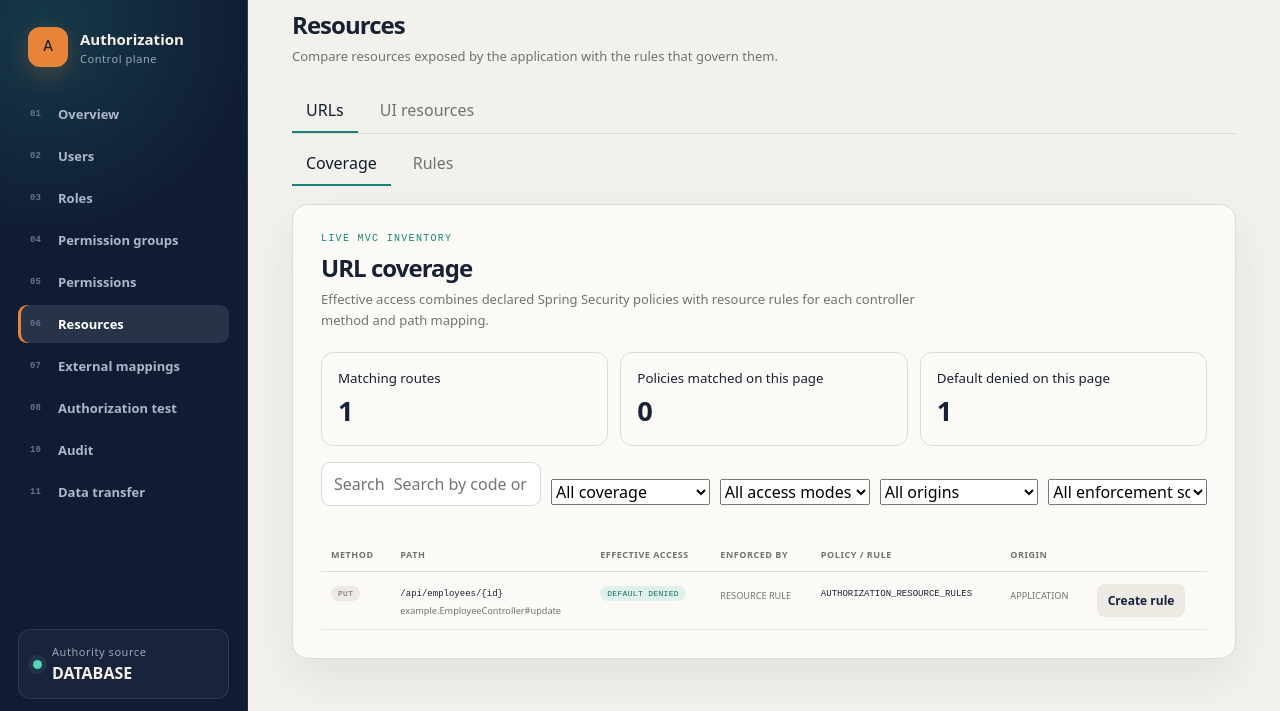
Test: Authorization admin UI › shows URL coverage and prefills a rule for an uncovered route
(page scrolled)
Expected: the text "Default denied" is shown, [600,586,686,601]
Click the button "Create rule" at point(1141, 601), box [1097,584,1185,617]
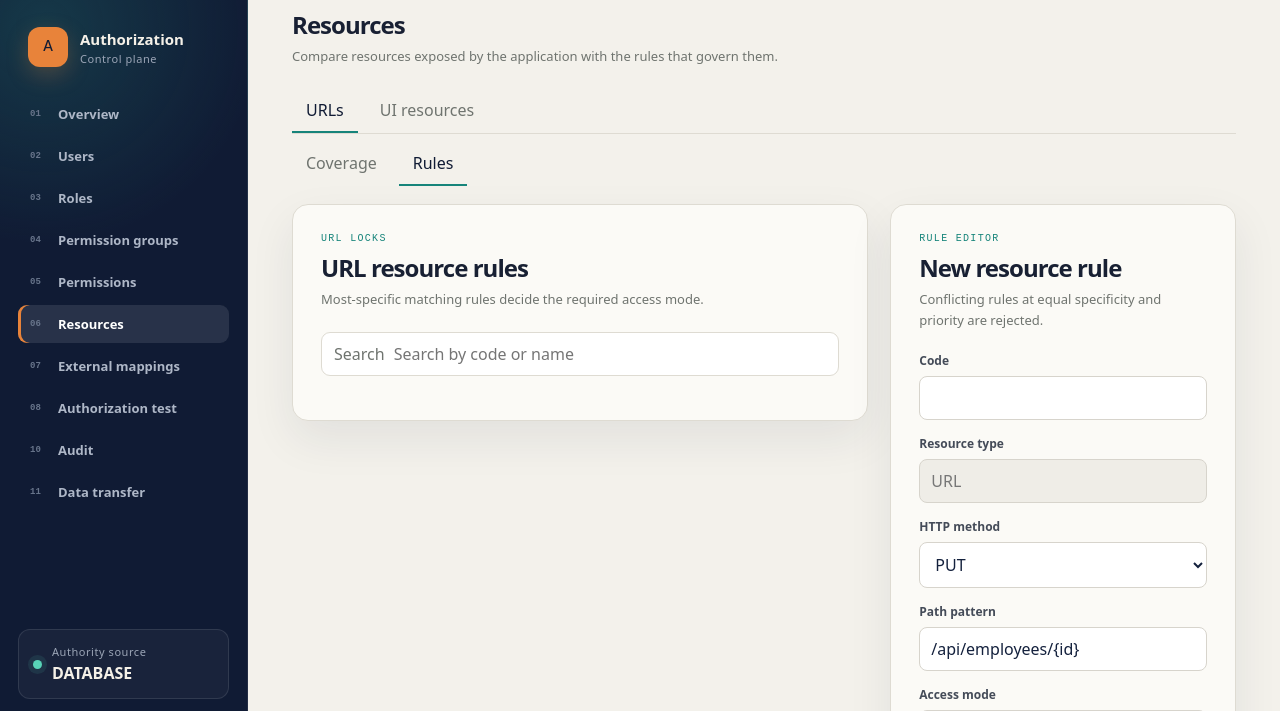
Expected: the field labelled "Code" is empty, [919,376,1207,420]
Result: the dropdown showing "PUT" is shown at [919,542,1207,588]
Result: the field showing "/api/employees/{id}" is shown at [919,627,1207,671]
